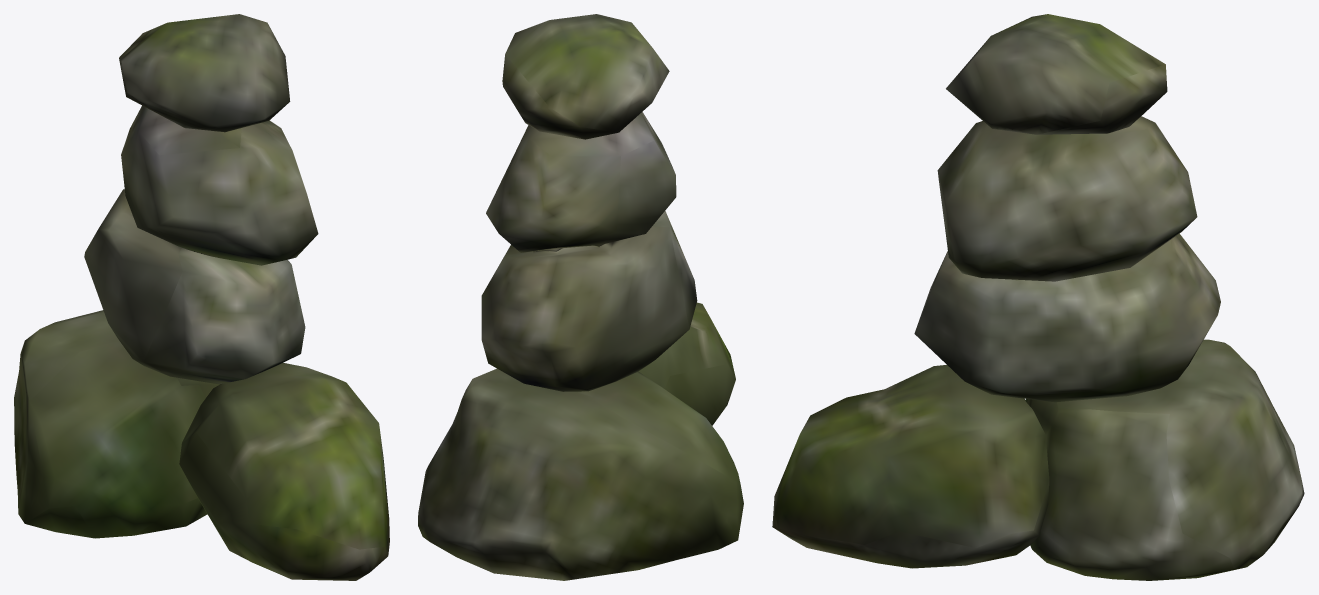
File: Piedras_Apiladas_Chiquitas.glb
3 renders of one model, left to right at view 1: azimuth 30°, elevation 25°; view 2: azimuth 150°, elevation 25°; view 3: azimuth 270°, elevation 25°, orthographic. The views are drawn at different scales.
Visible parts, largest first — view 1: Piedras Apiladas Chiquitas; view 2: Piedras Apiladas Chiquitas; view 3: Piedras Apiladas Chiquitas.
Boxes of the visible parts, left/top/right/bottom form: Piedras Apiladas Chiquitas: left=14, top=14, right=389, bottom=580; Piedras Apiladas Chiquitas: left=418, top=14, right=743, bottom=580; Piedras Apiladas Chiquitas: left=772, top=14, right=1304, bottom=580.
Size of the model in its own units: 0.0573 by 0.0915 by 0.0883.
1 material, 1 textured.
